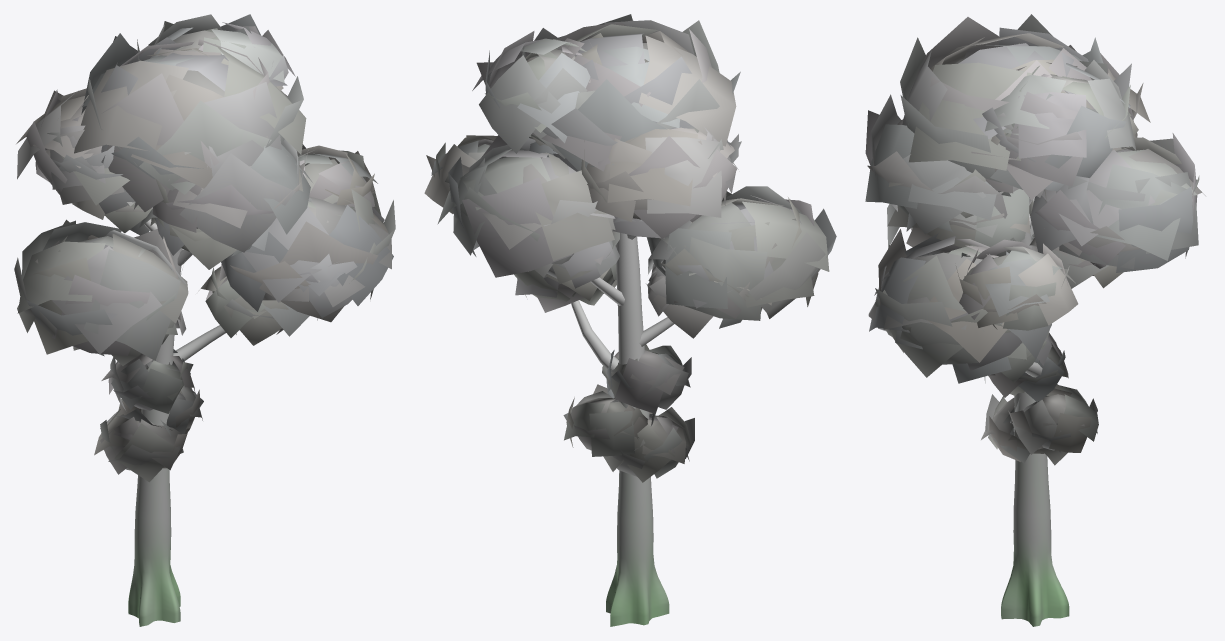
Rendered from jungleA_lod0.glb.
3 renders of one model, left to right at view 1: azimuth 30°, elevation 25°; view 2: azimuth 150°, elevation 25°; view 3: azimuth 270°, elevation 25°, orthographic. The views are drawn at different scales.
Parts seen in each view (by area): view 1: jungleA_lod0; view 2: jungleA_lod0; view 3: jungleA_lod0.
Part boxes in pixels (x1,y1,x2,y2): jungleA_lod0: (14, 14, 395, 626); jungleA_lod0: (424, 14, 836, 626); jungleA_lod0: (865, 14, 1205, 626).
Size of the model in its own units: 21.86 by 31.75 by 16.98.
